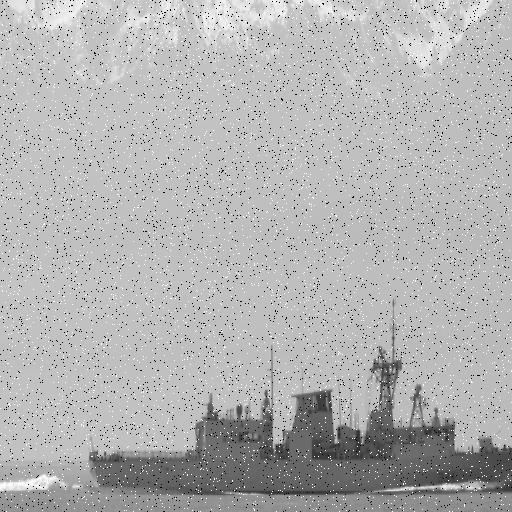Fragata: (85, 298, 512, 503)
